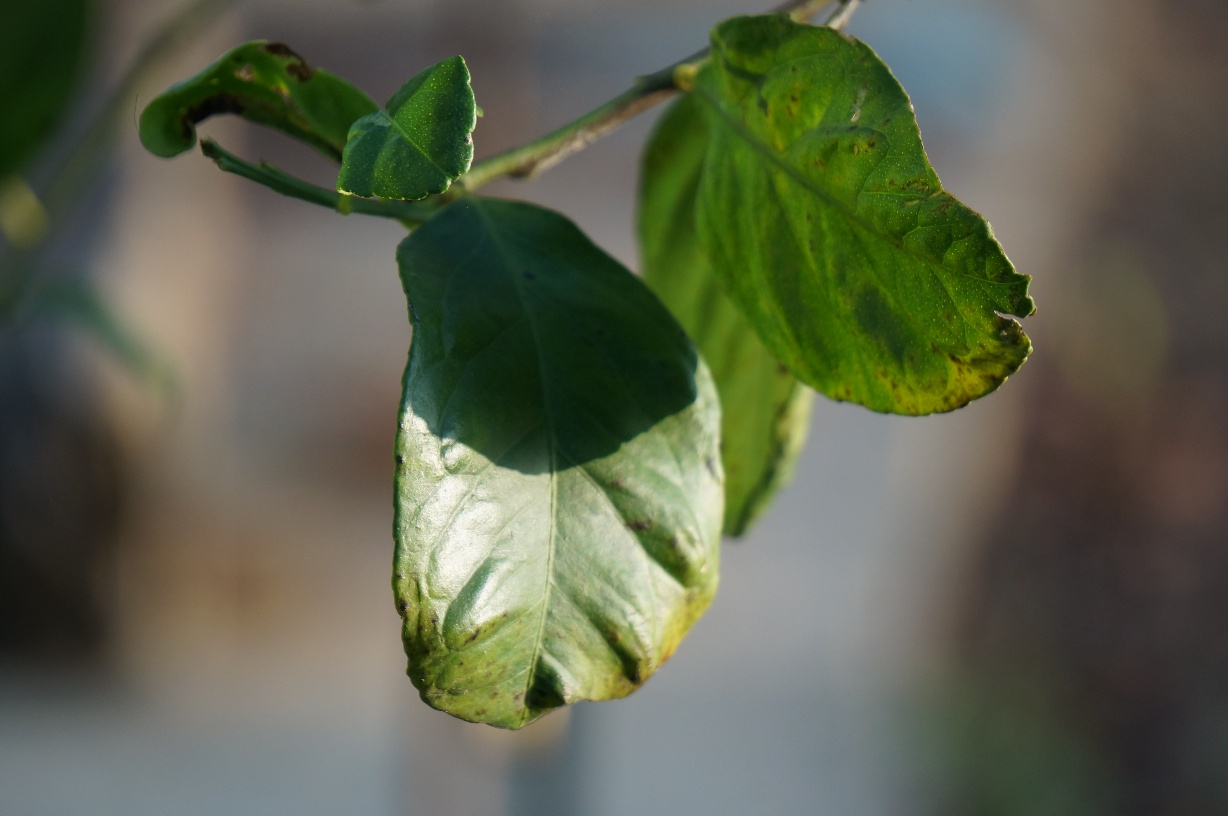curly: (131, 33, 480, 215)
